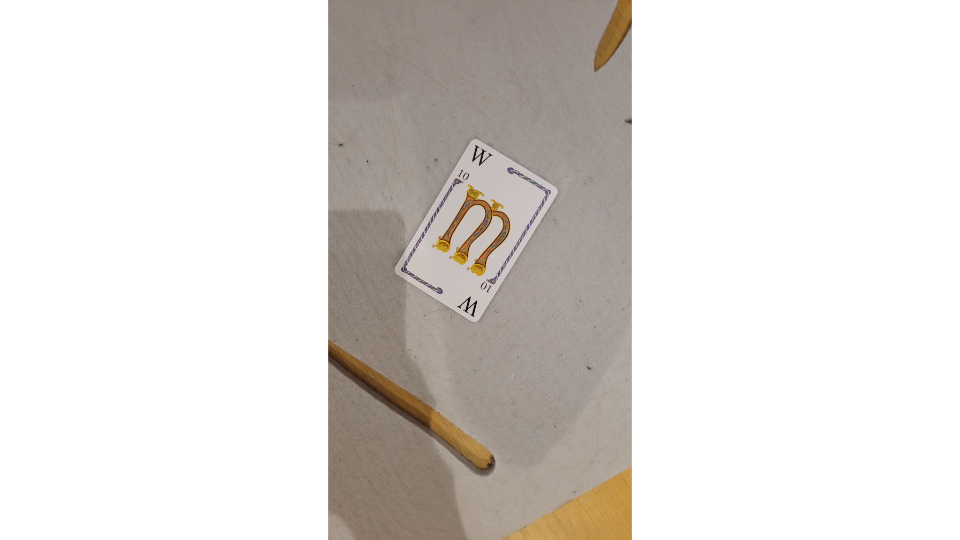W: (393, 136, 561, 324)
